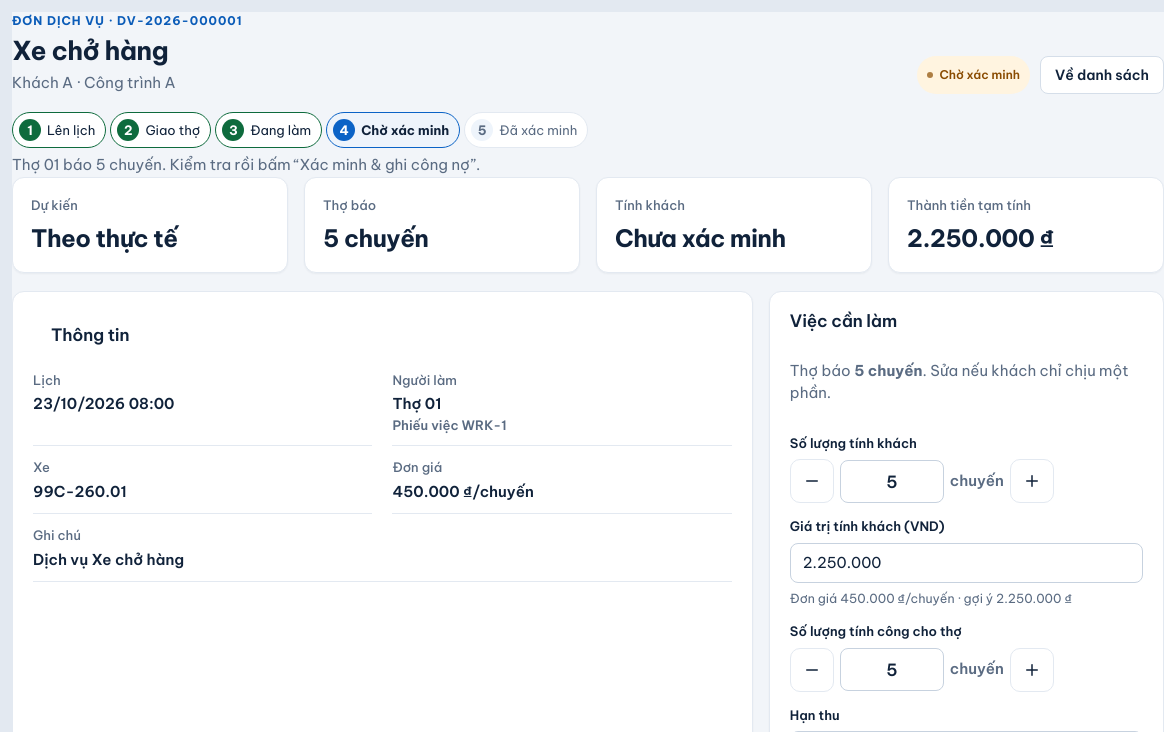
Test case: verifies the reported count and bills it, the note being optional
The width and height of the screenshot is (1164, 732).
Expected: the text "Thợ báo 5 chuyến. Sửa nếu khách chỉ chịu một phần." is shown, [790,360,1143,405]
Expected: the field labelled "Số lượng tính khách" holds "5", [840,460,944,503]
Click the button named "Bớt 1 · Số lượng tính khách".
click(812, 481)  # box [790,459,834,503]
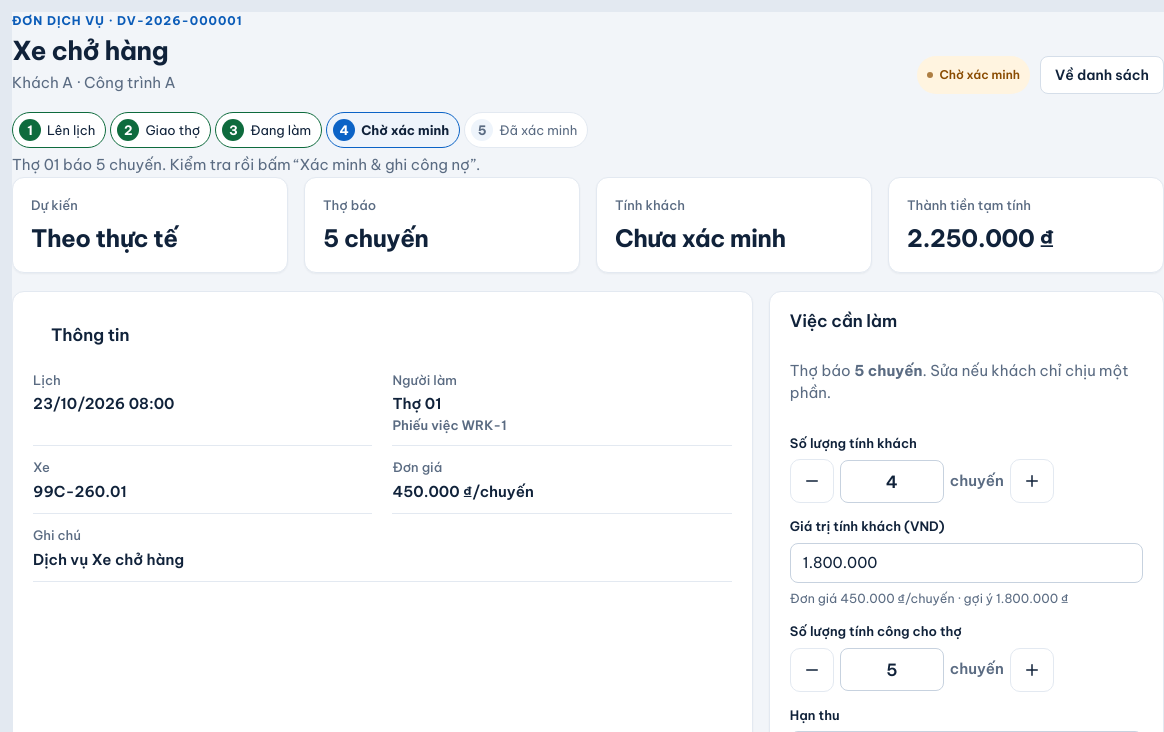
Expected: the field labelled "Số lượng tính công cho thợ" holds "5", [840,648,944,691]
Result: the field labelled "Giá trị tính khách (VND)" holds "1.800.000" at [790,543,1143,583]
